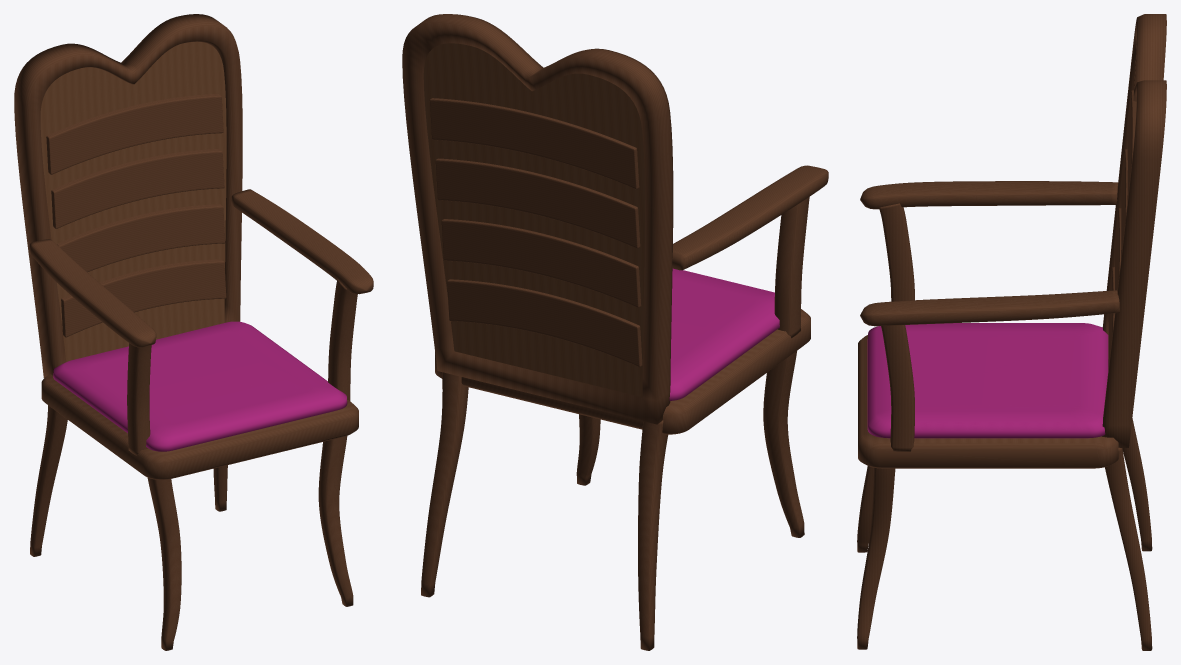
File: DiningChair_FUR01.fbx
3 renders of one model, left to right at view 1: azimuth 30°, elevation 25°; view 2: azimuth 150°, elevation 25°; view 3: azimuth 270°, elevation 25°, orthographic. The views are drawn at different scales.
Visible parts, largest first — view 1: DiningChair; view 2: DiningChair; view 3: DiningChair.
Part boxes in pixels (x1,y1,x2,y2): DiningChair: (14,14,373,650); DiningChair: (402,14,828,650); DiningChair: (857,14,1166,650).
Size of the model in its own units: 0.5347 by 1.03 by 0.5312.
3 materials, 3 textured.
